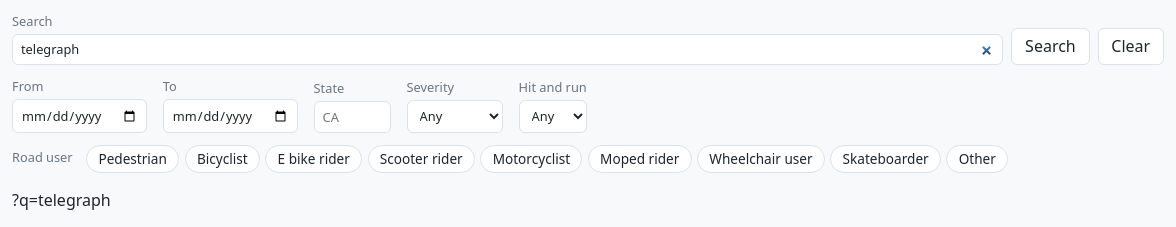
Test: search box › shows the text from a shared link and clears it
The width and height of the screenshot is (1176, 227).
Expected: the search field holds "telegraph", [12,34,1003,65]
Click the button "Clear".
click(1131, 46)  # box [1098,28,1164,66]
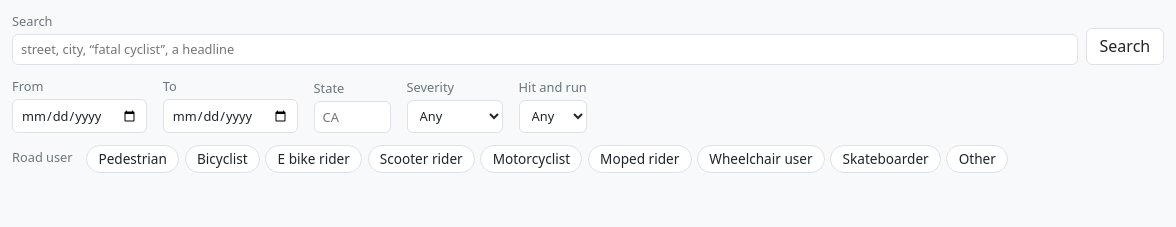
Now the text labelled "url" no longer shows "q="
Now the search field is empty, box [12,34,1078,65]
